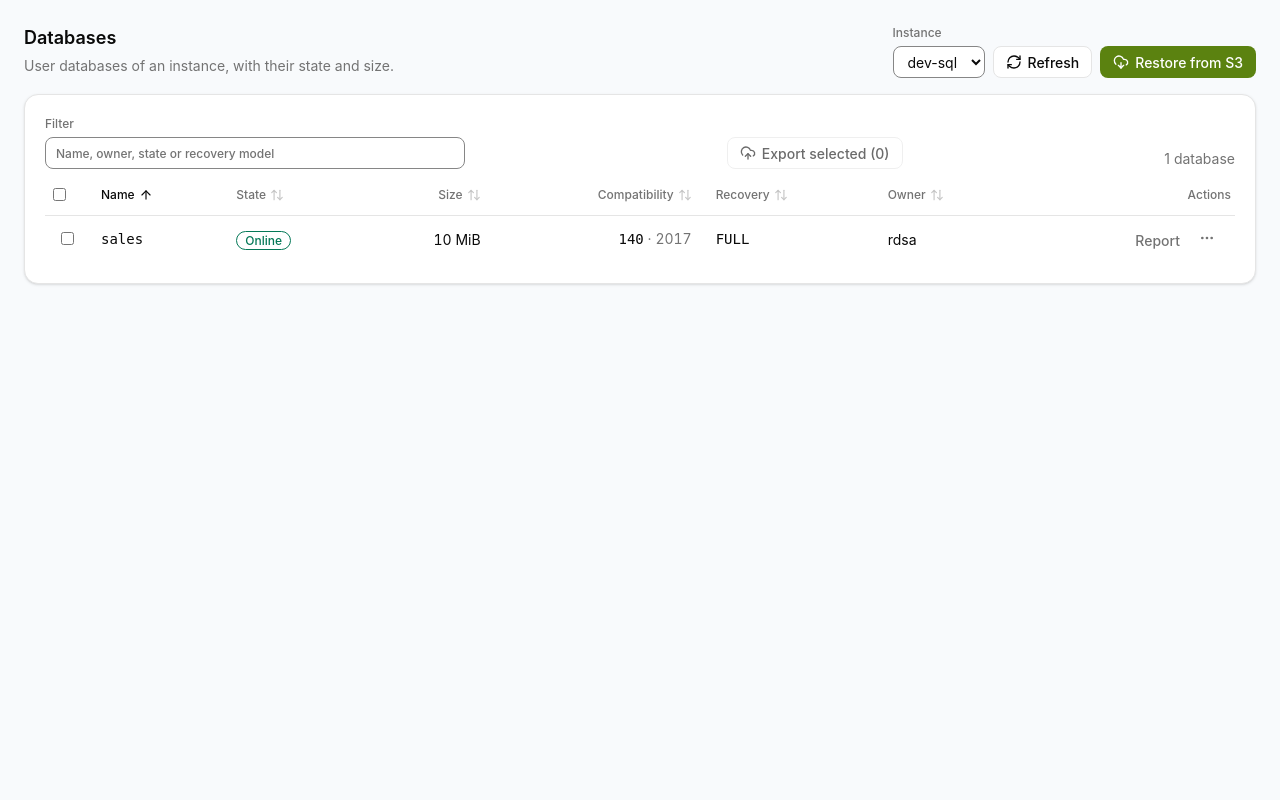
Scenario: Restore from S3 over an existing database › stops by default: the request carries no replace
The width and height of the screenshot is (1280, 800).
Expected: the column heading "Actions" is shown, 1019,181 -> 1235,215
Click the button "Restore from S3": [1178, 62] box 1100,46 -> 1256,78
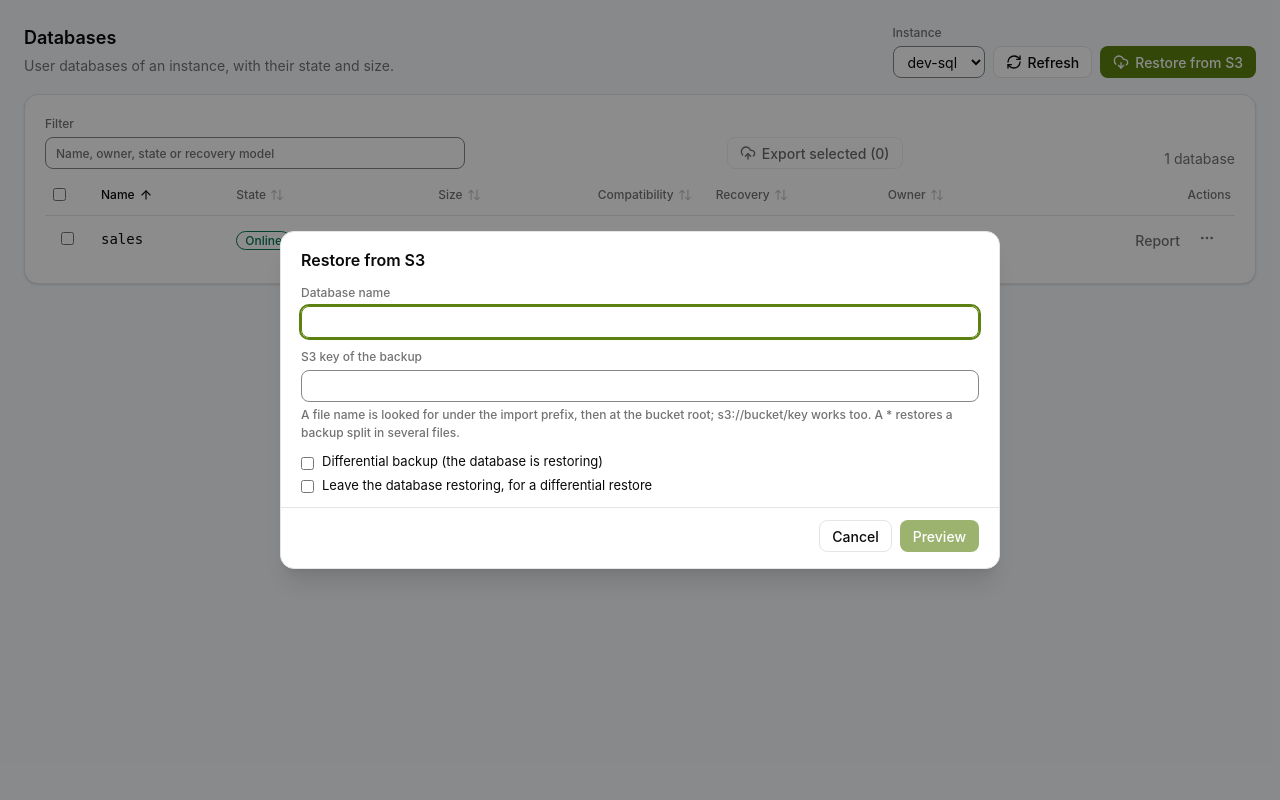
In the field labelled "Database name": [640, 322] box 301,306 -> 979,338, type "sales"
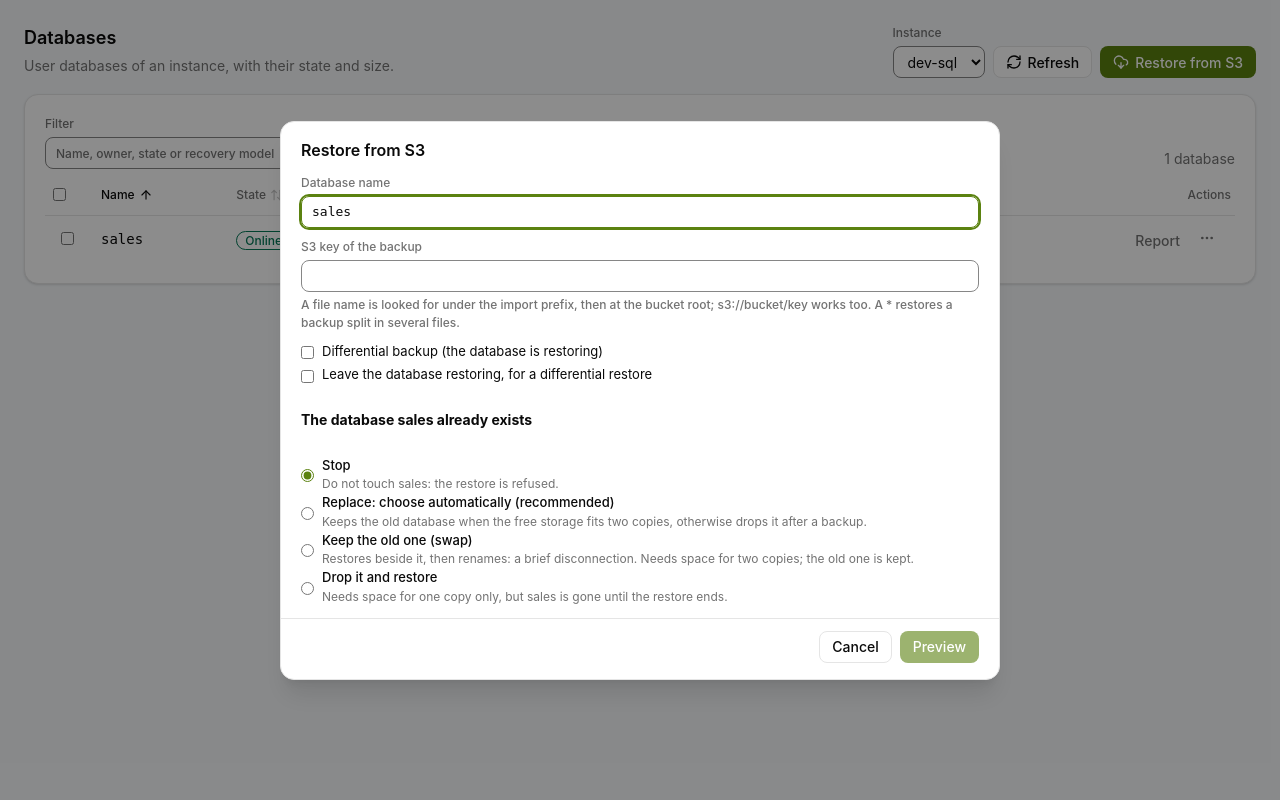
In the field labelled "S3 key of the backup": [640, 276] box 301,260 -> 979,292, type "sales.bak"
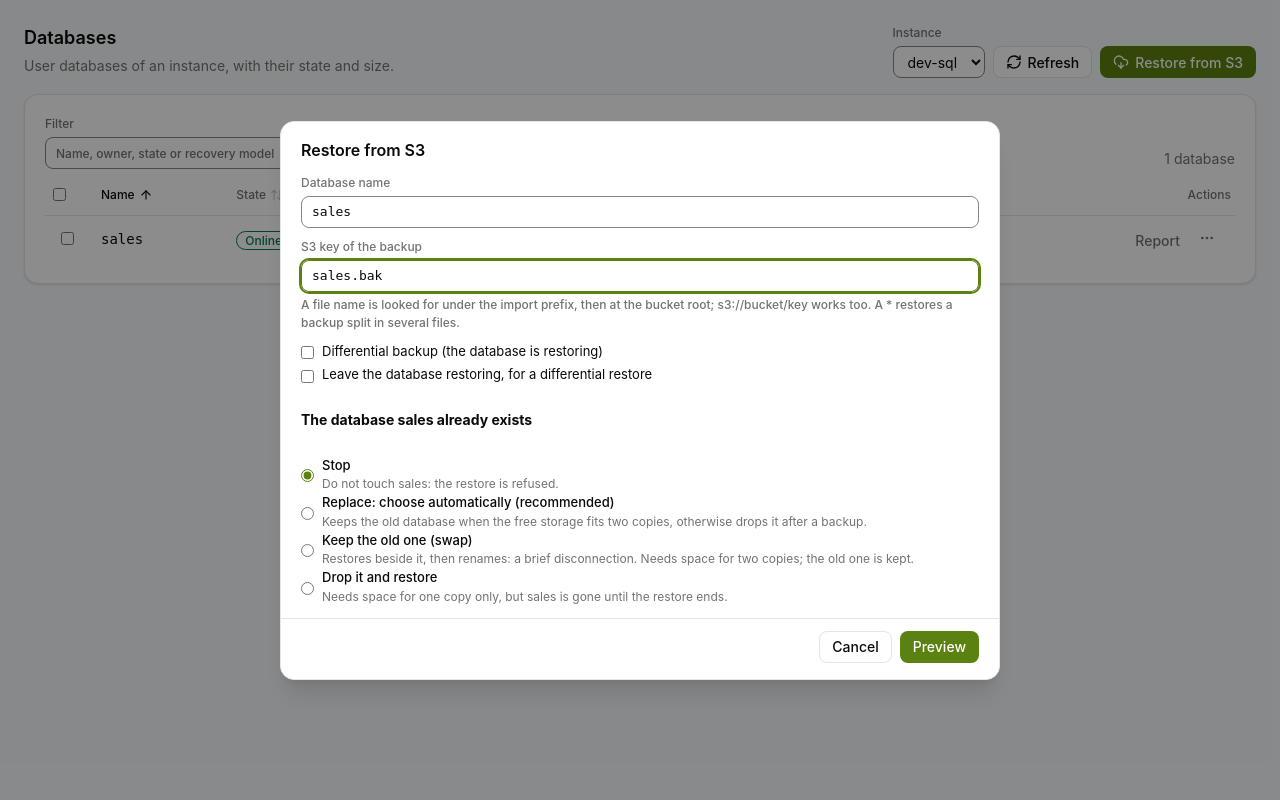
Expected: the radio button labelled "Stop" is checked, 301,469 -> 314,482
Click the button "Preview": [939, 646] box 900,630 -> 979,662
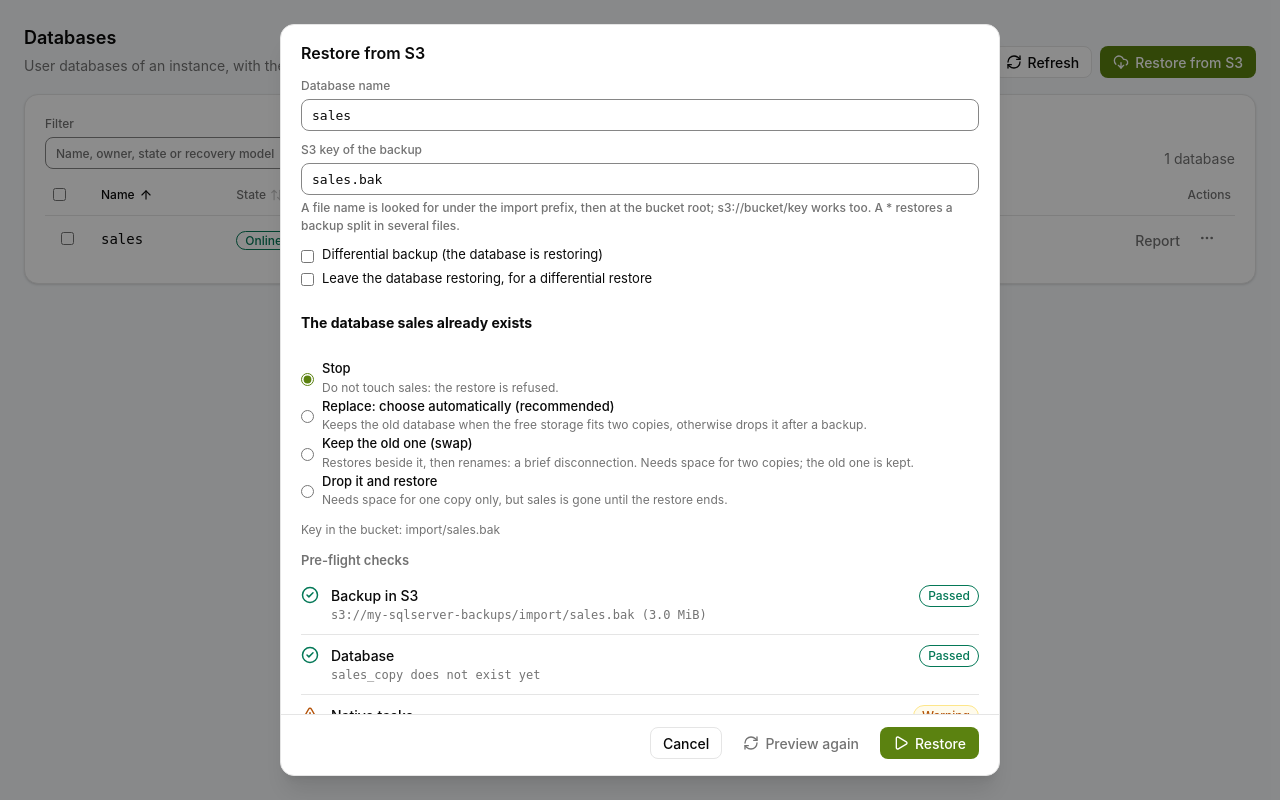
Expected: the button "Restore" is shown, 880,727 -> 979,759
